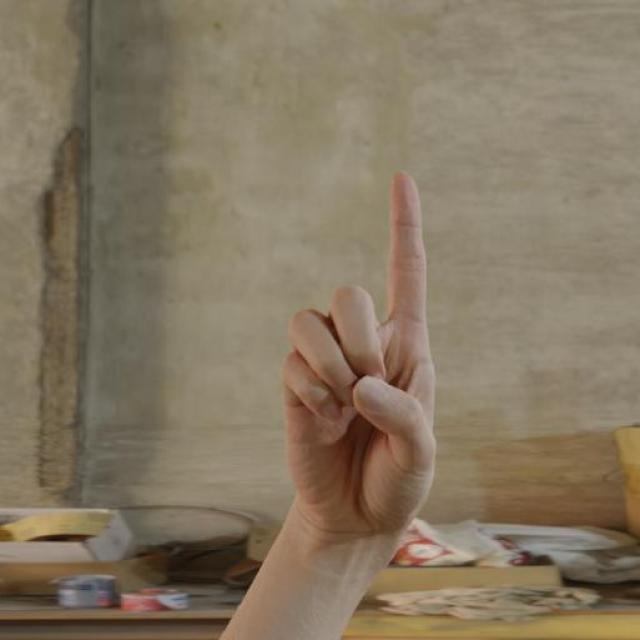D: (280, 167, 439, 535)
